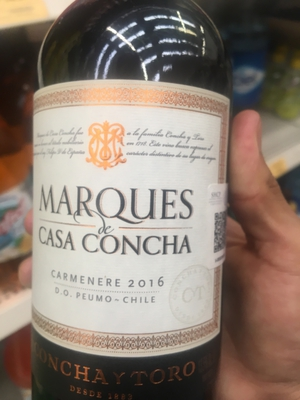marques de casa concha carmenere: (31, 27, 234, 400)
